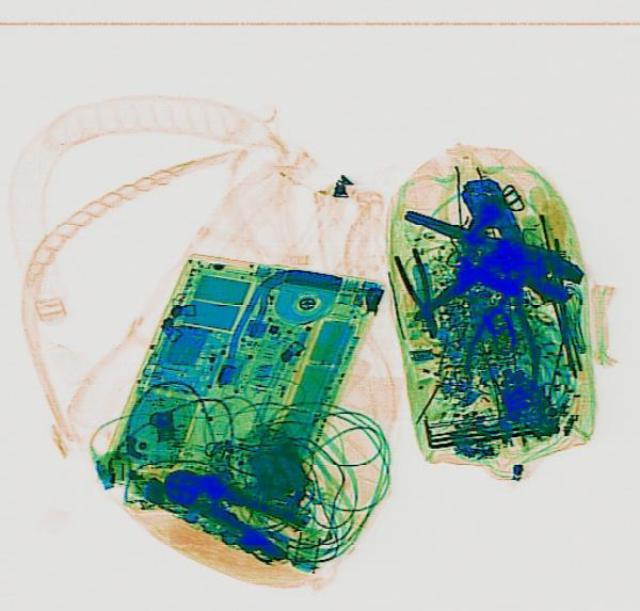Pliers: (378, 210, 590, 345), (147, 452, 311, 562), (432, 172, 536, 302), (460, 265, 550, 392), (388, 245, 448, 338)
